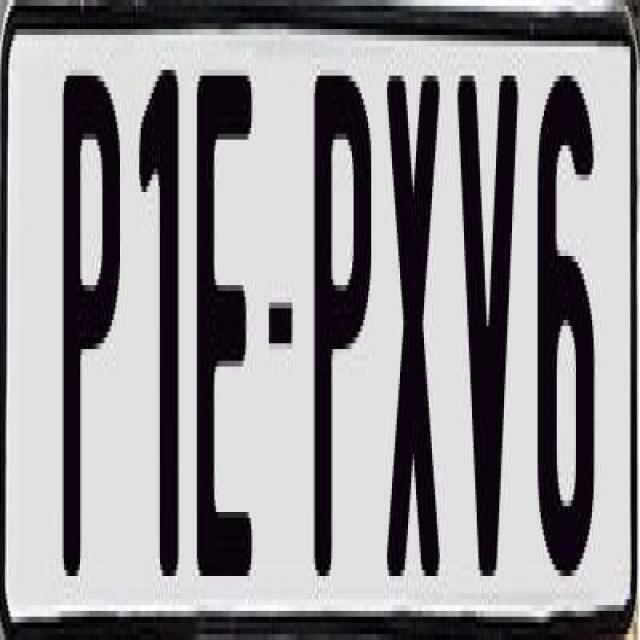1: (139, 70, 189, 600)
6: (538, 58, 596, 582)
E: (194, 76, 252, 582)
P: (63, 76, 124, 612), (312, 70, 371, 600)
V: (456, 70, 525, 600)
X: (387, 76, 442, 582)
